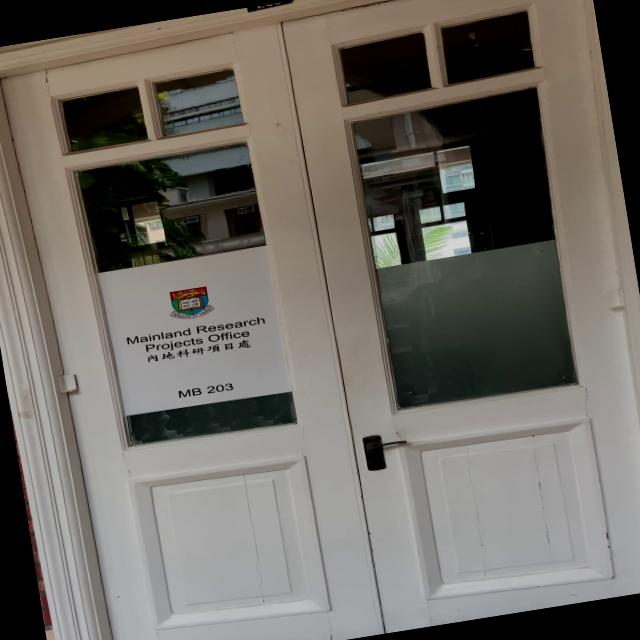room203Window: (170, 377, 240, 402)
